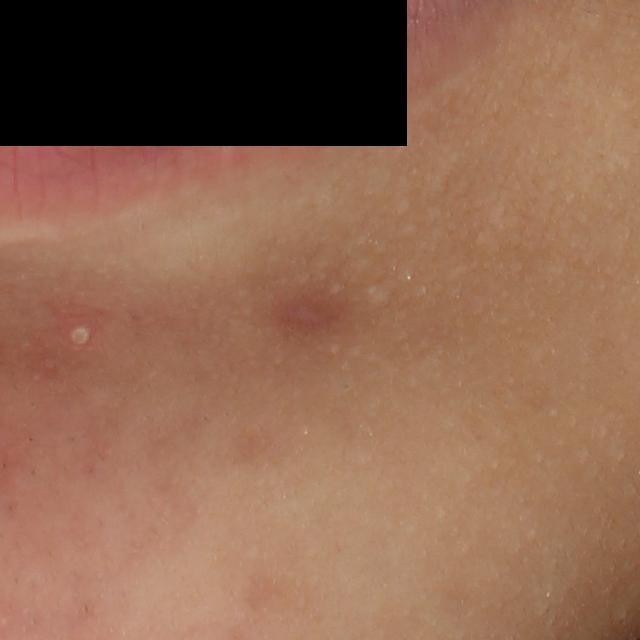pustule: (61, 315, 104, 356)
